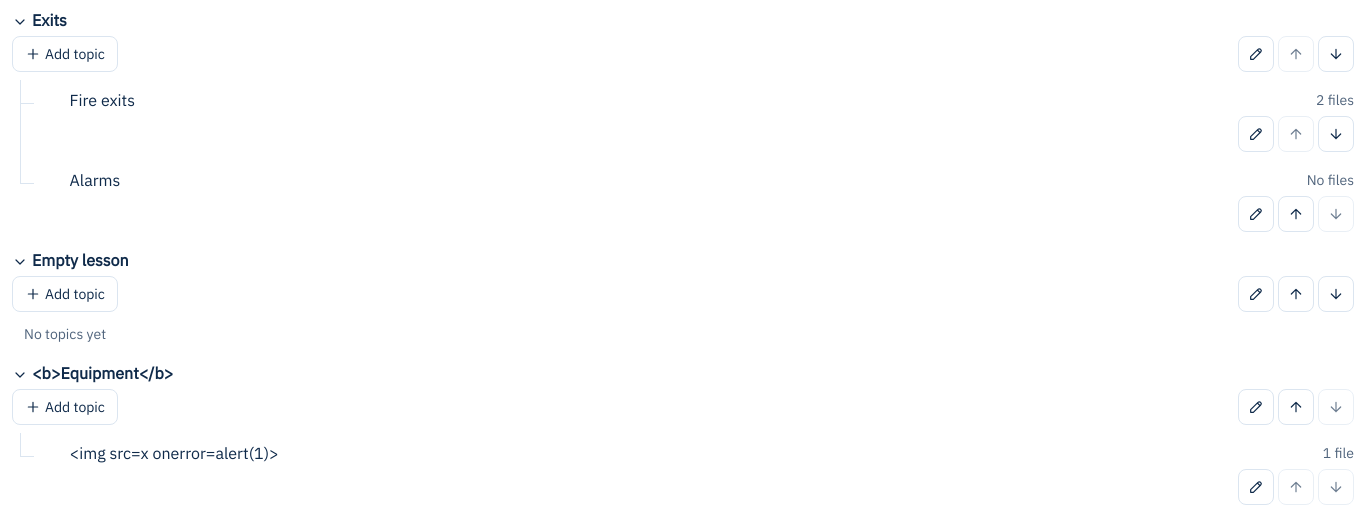
Test: CourseOutline › closes and opens a lesson when its title is clicked, announcing the state
Click the text "Exits" at (39, 20), box [12,10,67,30]
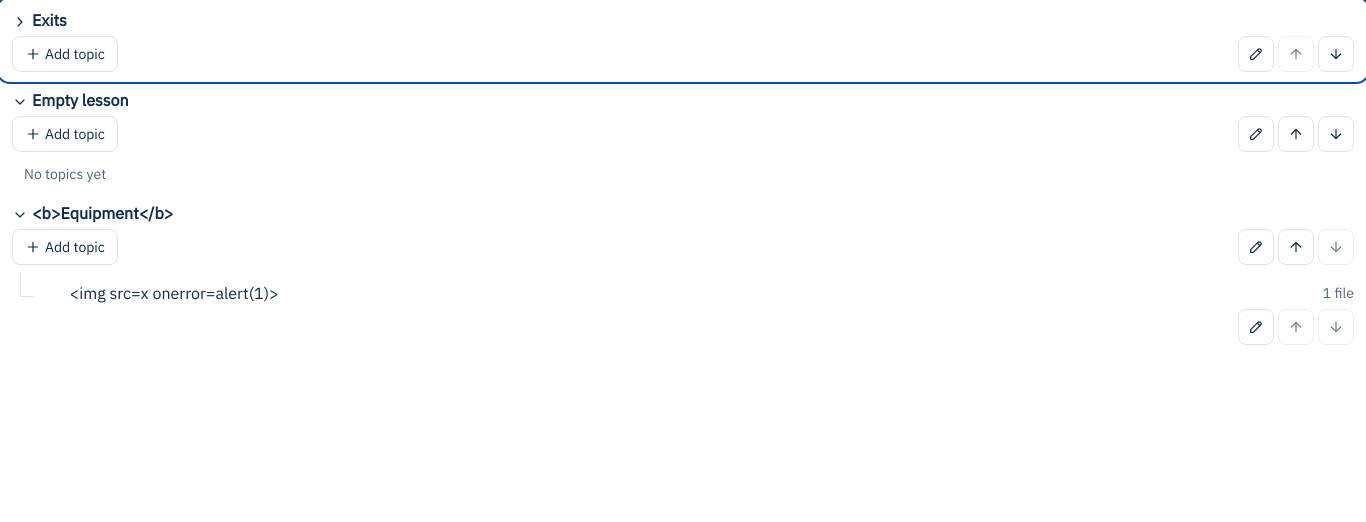
Expected: the list item "Exits" is collapsed, [0,0,1365,80]
Expected: the list item "Fire exits" is gone
Click the text "Exits" at (39, 20), box [12,10,67,30]
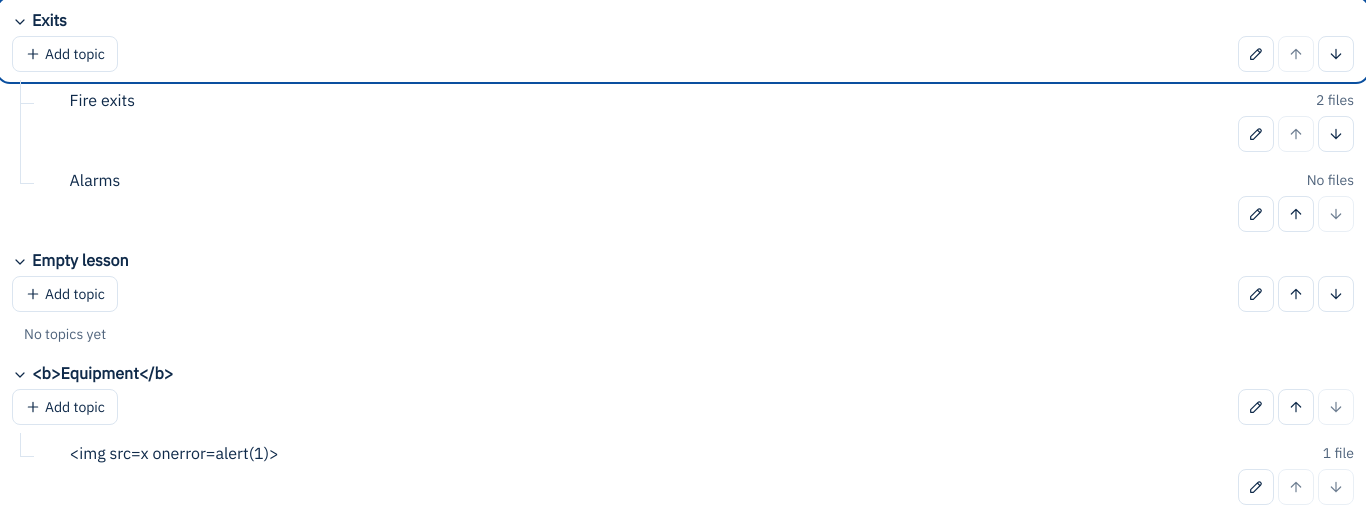
Expected: the list item "Exits" is expanded, [0,0,1365,240]
Expected: the list item "Fire exits" is shown, [38,80,1365,160]
